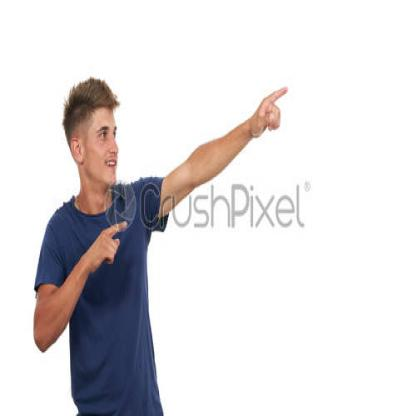Left: (240, 83, 306, 156)
